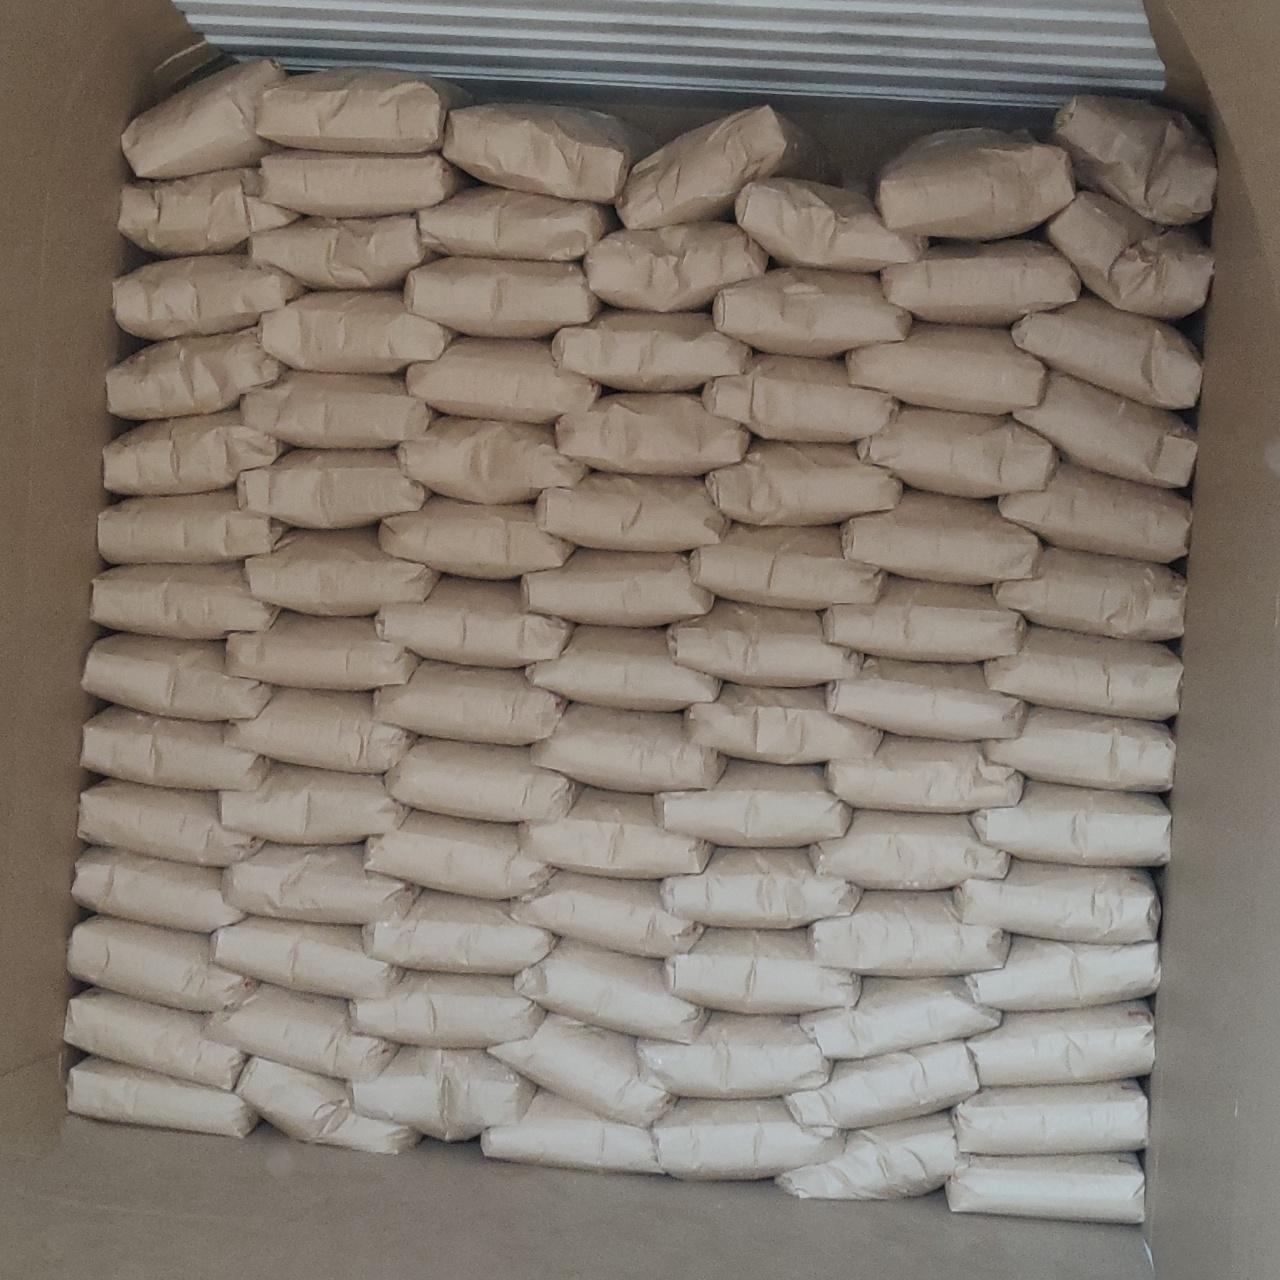sack: (618, 105, 828, 229), (878, 128, 1074, 238), (1046, 94, 1214, 222), (1012, 292, 1198, 406), (1044, 192, 1212, 318), (1014, 372, 1196, 486), (490, 1014, 672, 1124), (444, 102, 651, 198), (124, 57, 284, 173), (204, 983, 399, 1078), (518, 940, 704, 1039), (1000, 462, 1190, 558), (842, 490, 1039, 583), (986, 626, 1180, 719), (847, 324, 1044, 414), (70, 915, 254, 1010), (712, 268, 910, 356), (858, 406, 1056, 493), (994, 546, 1184, 638), (736, 178, 926, 270), (520, 788, 710, 878), (66, 990, 244, 1085), (881, 238, 1078, 324), (256, 70, 467, 150), (656, 760, 850, 846), (954, 860, 1158, 942), (350, 1048, 535, 1138), (668, 600, 862, 686), (972, 779, 1167, 864), (532, 704, 724, 790), (706, 440, 900, 524), (376, 578, 570, 662), (238, 1058, 416, 1150), (824, 578, 1022, 660), (704, 354, 896, 438), (527, 626, 719, 710), (787, 1042, 978, 1126), (810, 892, 1006, 974), (399, 416, 586, 502), (408, 338, 598, 422), (246, 530, 436, 614), (826, 658, 1024, 738), (666, 928, 858, 1012), (983, 706, 1172, 790), (108, 328, 284, 418), (554, 309, 750, 390), (226, 688, 414, 772), (512, 872, 700, 956), (692, 524, 884, 606), (586, 222, 765, 309), (776, 1114, 962, 1198), (114, 254, 302, 338), (84, 634, 270, 719), (386, 738, 576, 821), (365, 892, 554, 974), (663, 847, 860, 926), (260, 292, 454, 372), (82, 708, 270, 790), (212, 915, 400, 998), (802, 978, 998, 1056), (380, 498, 572, 578), (366, 812, 550, 896), (120, 168, 294, 254), (376, 662, 566, 742), (640, 1014, 830, 1094), (968, 1002, 1152, 1084), (556, 394, 748, 472), (224, 844, 416, 922), (105, 410, 286, 493), (80, 779, 263, 862), (654, 1098, 842, 1178), (826, 736, 1022, 812), (686, 685, 878, 762), (812, 810, 1006, 886), (406, 258, 598, 334), (482, 1090, 660, 1172), (536, 474, 726, 550), (238, 450, 428, 526), (420, 186, 614, 260), (74, 847, 244, 932), (241, 370, 433, 445), (220, 764, 406, 842), (352, 971, 542, 1046), (966, 937, 1158, 1010), (229, 612, 418, 686), (68, 1058, 254, 1133), (522, 549, 710, 622), (91, 564, 278, 638), (100, 490, 286, 564), (954, 1080, 1146, 1150), (260, 150, 467, 215), (948, 1155, 1142, 1223), (250, 215, 433, 286)
